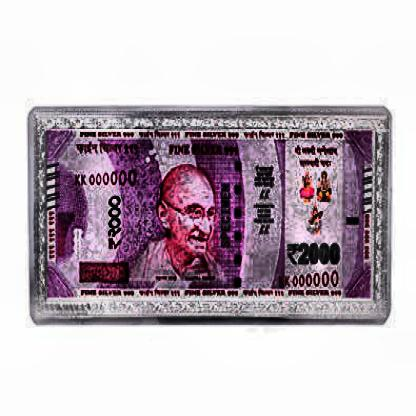Rs2000: (284, 238, 346, 270)
